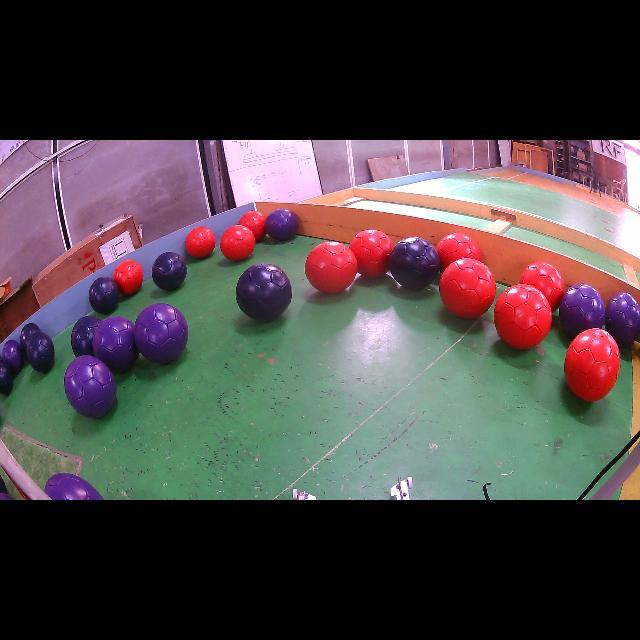B: (235, 264, 292, 321), (389, 238, 440, 290), (151, 252, 188, 291), (71, 316, 101, 358), (26, 331, 55, 372), (89, 276, 120, 314), (20, 322, 40, 357), (0, 359, 12, 395)
P: (134, 302, 189, 364), (64, 355, 116, 418), (92, 316, 139, 372), (559, 284, 605, 338), (605, 292, 640, 346), (45, 472, 104, 500), (265, 209, 298, 241), (2, 340, 24, 374)
R: (564, 328, 620, 401), (439, 252, 496, 319), (494, 284, 551, 349), (305, 241, 358, 292), (520, 261, 565, 311), (350, 229, 394, 278), (436, 232, 481, 271), (220, 225, 255, 261), (112, 260, 144, 295), (185, 226, 215, 258), (239, 210, 266, 241)
